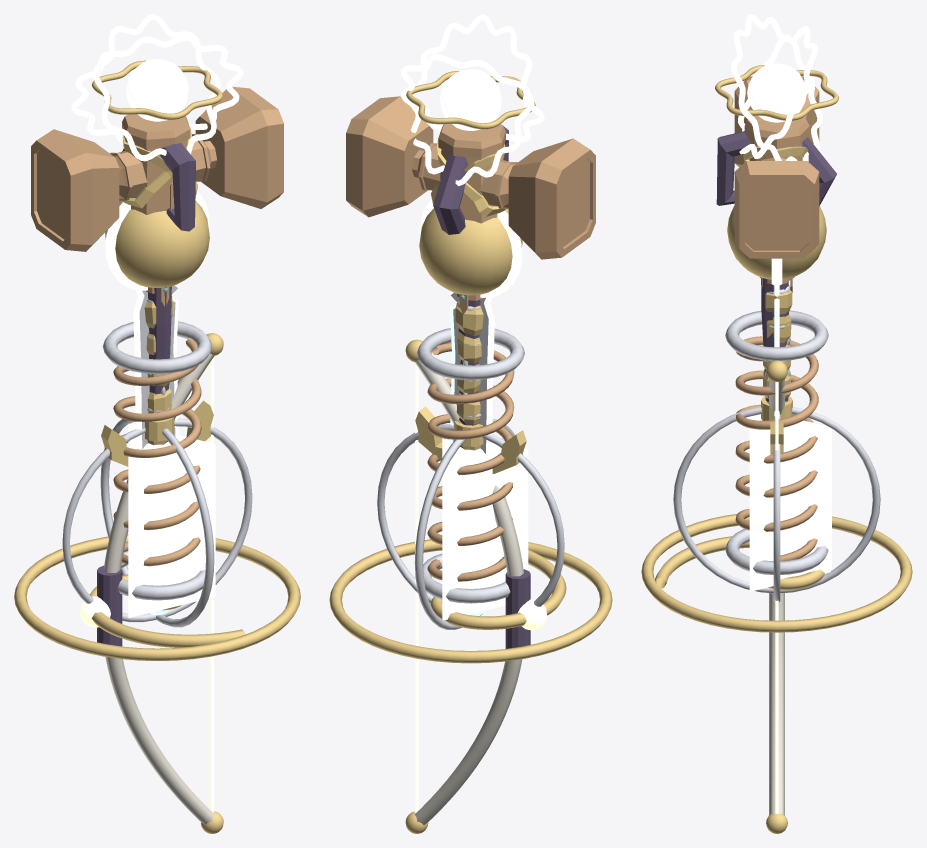
Rendered from weapons.glb.
3 views of the same model, side by side, from view 1: azimuth 30°, elevation 25°; view 2: azimuth 150°, elevation 25°; view 3: azimuth 270°, elevation 25° (orthographic). The views are drawn at different scales.
Visible parts, largest first — view 1: w_lever, w_prism, w_staff, w_coil, w_spiral, w_bow, w_pendulum, w_blade; view 2: w_lever, w_prism, w_staff, w_coil, w_bow, w_spiral, w_pendulum, w_blade; view 3: w_prism, w_lever, w_staff, w_coil, w_spiral, w_bow, w_pendulum, w_blade.
Boxes of the visible parts, bbox=[...] form: w_lever: bbox=[31, 86, 283, 445]; w_prism: bbox=[62, 418, 252, 627]; w_staff: bbox=[71, 14, 243, 394]; w_coil: bbox=[102, 321, 212, 600]; w_spiral: bbox=[14, 534, 300, 660]; w_bow: bbox=[80, 333, 223, 833]; w_pendulum: bbox=[105, 191, 209, 441]; w_blade: bbox=[101, 284, 213, 466]; w_lever: bbox=[346, 96, 595, 450]; w_prism: bbox=[377, 419, 564, 629]; w_staff: bbox=[401, 14, 544, 234]; w_coil: bbox=[417, 328, 524, 603]; w_bow: bbox=[405, 339, 547, 833]; w_spiral: bbox=[329, 539, 612, 663]; w_pendulum: bbox=[419, 200, 522, 446]; w_blade: bbox=[415, 291, 526, 473]; w_prism: bbox=[673, 407, 880, 601]; w_lever: bbox=[734, 76, 819, 403]; w_staff: bbox=[715, 14, 838, 375]; w_coil: bbox=[725, 310, 828, 574]; w_spiral: bbox=[641, 514, 912, 632]; w_bow: bbox=[766, 360, 787, 833]; w_pendulum: bbox=[727, 205, 826, 420]; w_blade: bbox=[770, 286, 783, 454].
Size of the model in its own units: 0.544 by 1.73 by 0.544.
